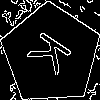K: (26, 29, 81, 82)
